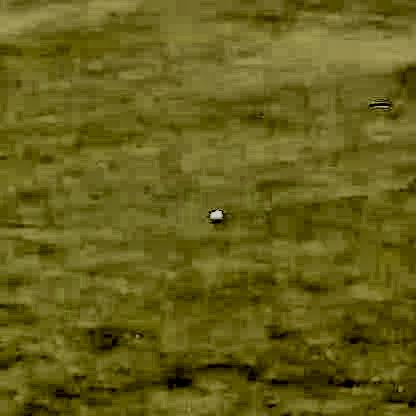golfball: (209, 207, 221, 222)
